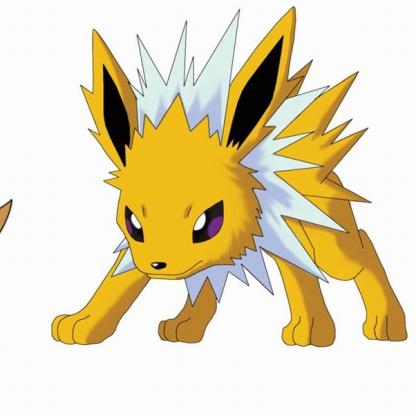Jolteon: (44, 16, 416, 364)
